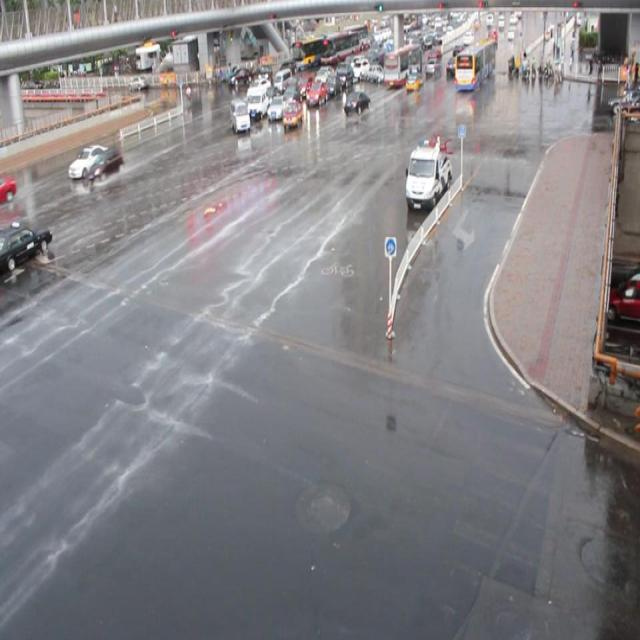bus: (403, 143, 451, 211)
car: (1, 221, 53, 272), (68, 144, 111, 180), (88, 147, 124, 182), (342, 89, 370, 115), (282, 100, 304, 128), (304, 80, 325, 106), (267, 96, 288, 120), (246, 77, 270, 98), (258, 87, 280, 109), (280, 83, 300, 107), (291, 76, 311, 97)
truck: (243, 89, 266, 121), (230, 98, 250, 133), (273, 68, 292, 92)
